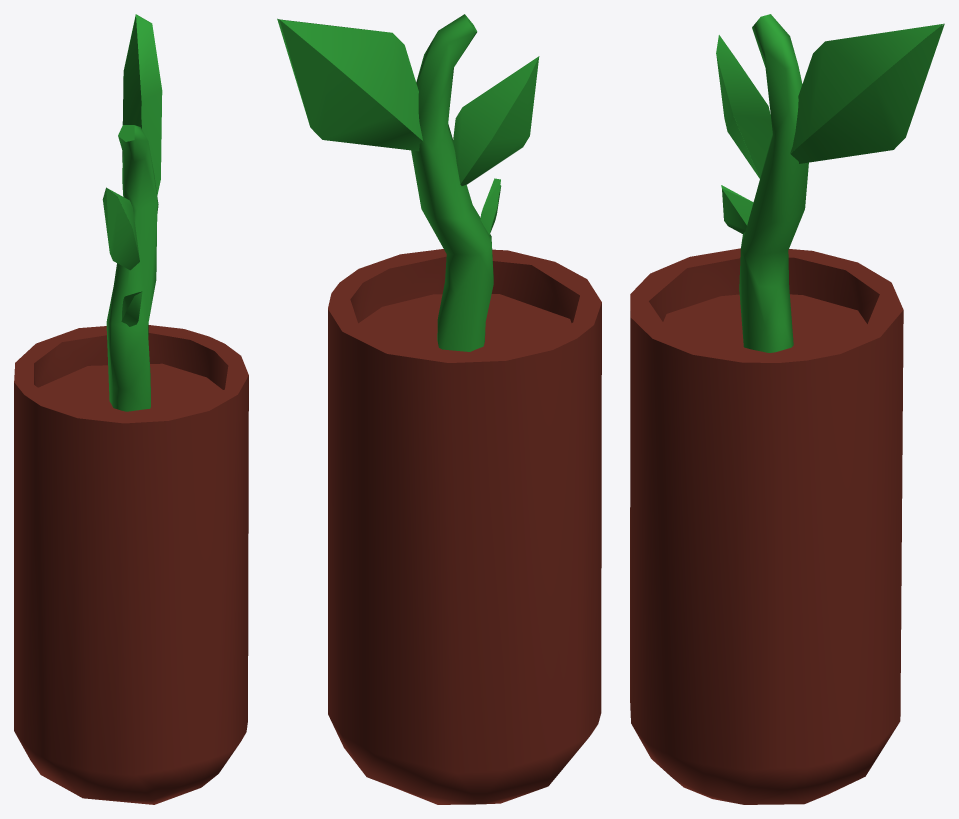
Rendered from zhiwu3.fbx.
3 views of the same model, side by side, from view 1: azimuth 30°, elevation 25°; view 2: azimuth 150°, elevation 25°; view 3: azimuth 270°, elevation 25° (orthographic). The views are drawn at different scales.
Parts seen in each view (by area): view 1: polySurface79, polySurface78, polySurface82, polySurface80; view 2: polySurface79, polySurface78, polySurface83, polySurface82, polySurface81, polySurface80, polySurface77; view 3: polySurface79, polySurface78, polySurface83, polySurface82, polySurface81, polySurface80.
Boxes of the visible parts, x1,y1,x2,y2 form: polySurface79: [14, 325, 248, 804]; polySurface78: [106, 125, 158, 411]; polySurface82: [122, 15, 162, 194]; polySurface80: [103, 188, 139, 270]; polySurface79: [328, 249, 601, 804]; polySurface78: [411, 14, 493, 351]; polySurface83: [277, 18, 422, 151]; polySurface82: [279, 19, 422, 140]; polySurface81: [453, 56, 539, 183]; polySurface80: [460, 57, 538, 185]; polySurface77: [480, 178, 500, 234]; polySurface79: [630, 248, 903, 804]; polySurface78: [739, 14, 808, 352]; polySurface83: [790, 23, 944, 163]; polySurface82: [790, 23, 943, 152]; polySurface81: [716, 35, 772, 178]; polySurface80: [716, 55, 759, 178].
Size of the model in its own units: 95.53 by 309 by 110.
